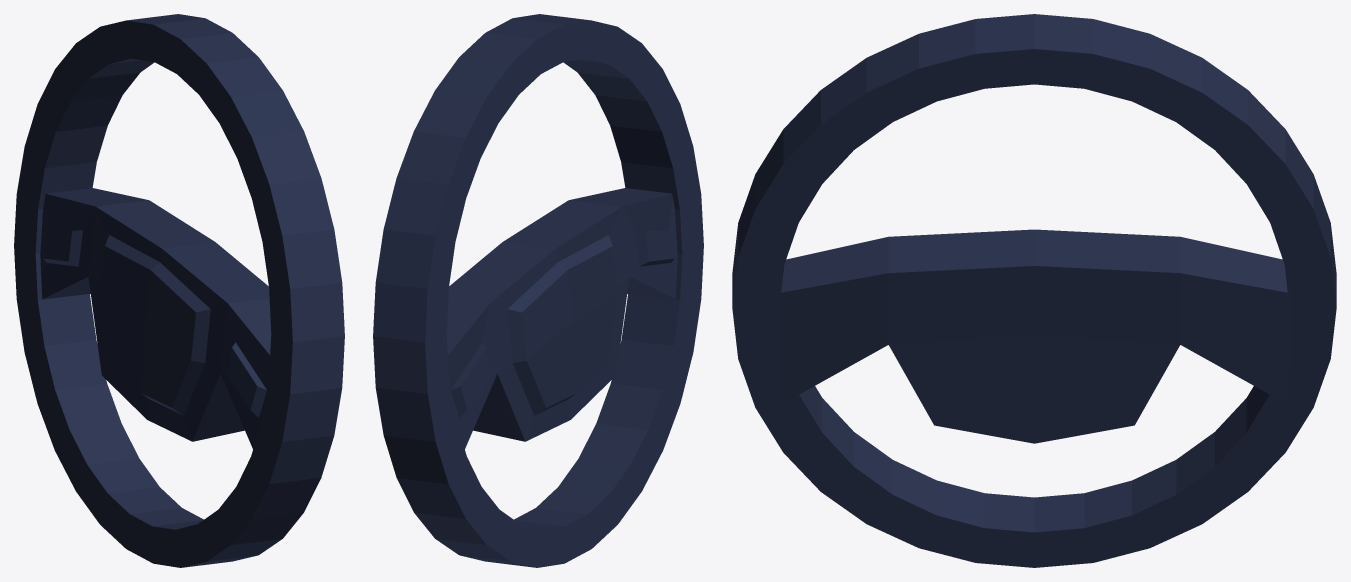
Rendered from CarSteering.glb.
3 renders of one model, left to right at view 1: azimuth 30°, elevation 25°; view 2: azimuth 150°, elevation 25°; view 3: azimuth 270°, elevation 25°, orthographic. The views are drawn at different scales.
Parts seen in each view (by area): view 1: SteeringWheel, SteeringWheelMiddle; view 2: SteeringWheel, SteeringWheelMiddle; view 3: SteeringWheel, SteeringWheelMiddle.
Boxes of the visible parts, x1,y1,x2,y2 form: SteeringWheel: [14, 14, 344, 567]; SteeringWheelMiddle: [40, 188, 271, 449]; SteeringWheel: [373, 14, 703, 567]; SteeringWheelMiddle: [446, 188, 677, 449]; SteeringWheel: [732, 14, 1336, 567]; SteeringWheelMiddle: [778, 229, 1290, 443].
Bounding box in the file's own units: 0.5109 × 2.3 × 2.27.
